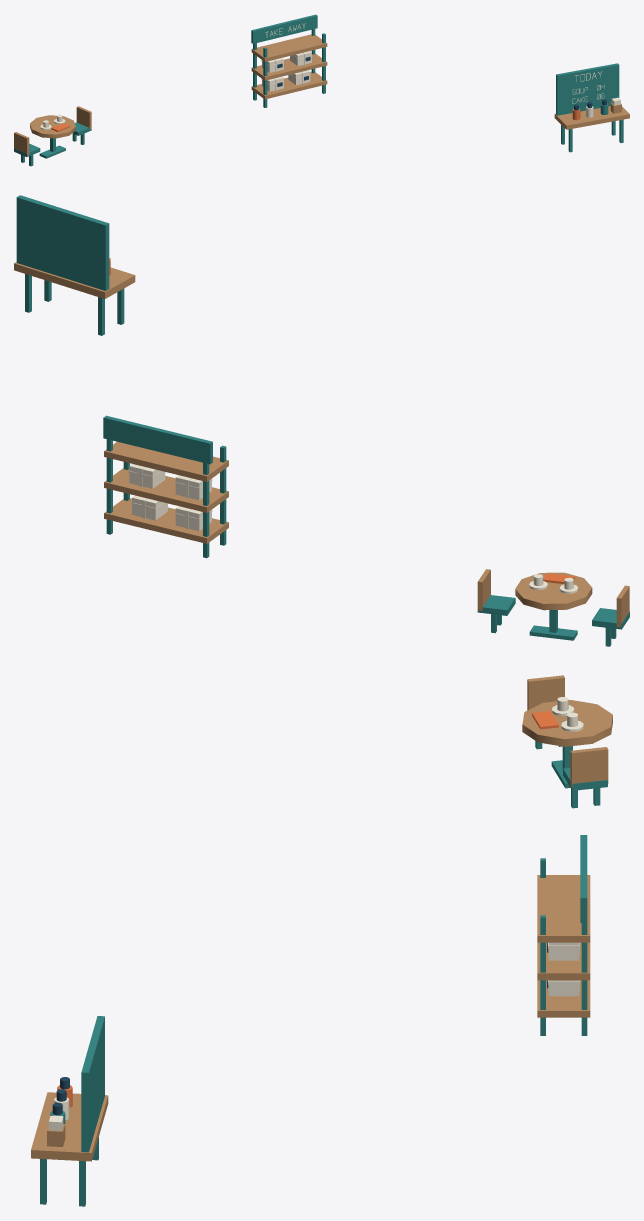
File: catering.glb
The picture shows the model from 3 angles, top to bottom: view 1: azimuth 30°, elevation 25°; view 2: azimuth 150°, elevation 25°; view 3: azimuth 270°, elevation 25°; orthographic projection. The views are drawn at different scales.
Parts seen in each view (by area): view 1: static_detail_teal, static_detail_wood, static_detail_ivory; view 2: static_detail_teal, static_detail_wood, static_detail_ivory; view 3: static_detail_wood, static_detail_teal, static_detail_ivory.
Part boxes in pixels (x1,y1,x2,y2): static_detail_teal: [14, 14, 623, 166]; static_detail_wood: [14, 34, 629, 155]; static_detail_ivory: [40, 23, 620, 129]; static_detail_teal: [16, 195, 629, 646]; static_detail_wood: [14, 262, 629, 627]; static_detail_ivory: [128, 464, 578, 593]; static_detail_wood: [31, 675, 612, 1161]; static_detail_teal: [40, 741, 607, 1206]; static_detail_ivory: [48, 697, 583, 1130].
Size of the model in its own units: 14.65 by 2.01 by 7.6.
